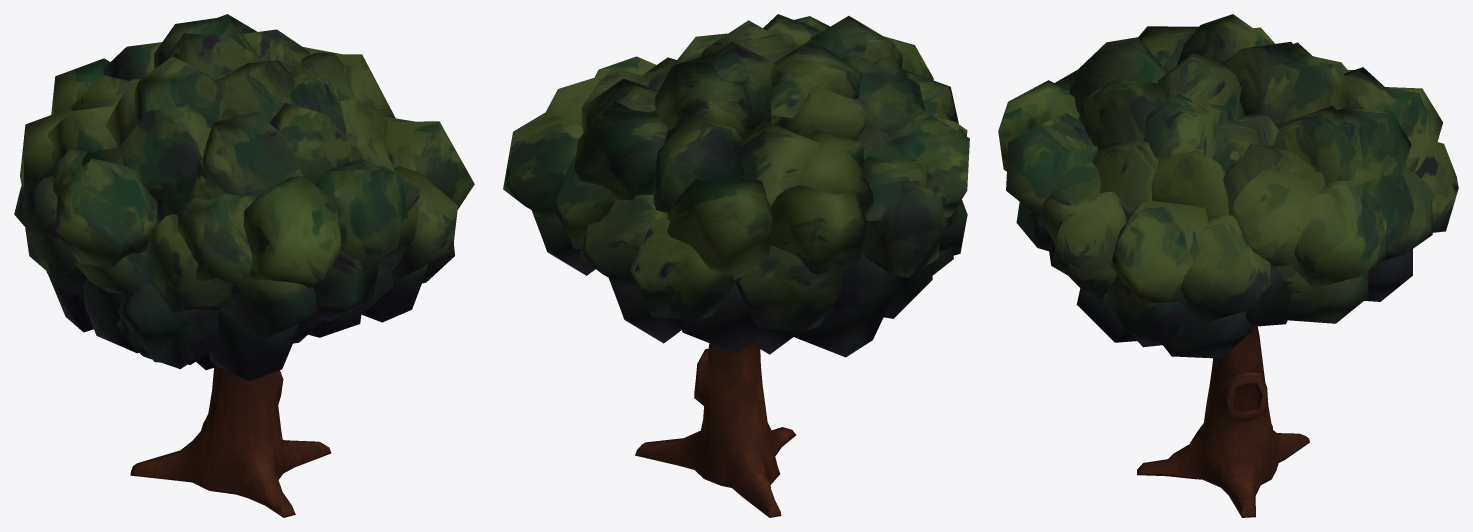
File: Arvore Normal revisao1.fbx
3 renders of one model, left to right at view 1: azimuth 30°, elevation 25°; view 2: azimuth 150°, elevation 25°; view 3: azimuth 270°, elevation 25°, orthographic. The views are drawn at different scales.
Visible parts, largest first — view 1: Folha.046, Folha.045, Folha.043, Folha.047, Tronco.001, Folha.042, Folha.048, Folha.049, Folha.044; view 2: Folha.044, Folha.048, Folha.049, Folha.047, Tronco.001, Folha.045, Folha.046, Folha.043, Folha.042; view 3: Folha.042, Folha.049, Folha.046, Folha.047, Tronco.001, Folha.044, Folha.045.
Boxes of the visible parts, left/top/right/bottom form: Folha.046: left=202, top=103, right=421, bottom=321; Folha.045: left=55, top=102, right=224, bottom=369; Folha.043: left=145, top=193, right=361, bottom=381; Folha.047: left=105, top=16, right=346, bottom=147; Tronco.001: left=130, top=367, right=331, bottom=517; Folha.042: left=340, top=98, right=474, bottom=322; Folha.048: left=14, top=105, right=138, bottom=353; Folha.049: left=218, top=14, right=395, bottom=118; Folha.044: left=51, top=42, right=161, bottom=114; Folha.044: left=580, top=113, right=820, bottom=353; Folha.048: left=735, top=129, right=945, bottom=357; Folha.049: left=503, top=67, right=668, bottom=275; Folha.047: left=643, top=20, right=867, bottom=142; Tronco.001: left=635, top=343, right=795, bottom=517; Folha.045: left=843, top=57, right=969, bottom=275; Folha.046: left=763, top=14, right=933, bottom=80; Folha.043: left=902, top=69, right=967, bottom=136; Folha.042: left=594, top=56, right=676, bottom=78; Folha.042: left=1053, top=141, right=1271, bottom=358; Folha.049: left=1223, top=105, right=1413, bottom=326; Folha.046: left=998, top=37, right=1167, bottom=275; Folha.047: left=1142, top=14, right=1349, bottom=171; Tronco.001: left=1137, top=326, right=1309, bottom=517; Folha.044: left=1319, top=57, right=1458, bottom=301; Folha.045: left=1138, top=26, right=1198, bottom=72.
Size of the model in its own units: 384 by 404 by 397.
